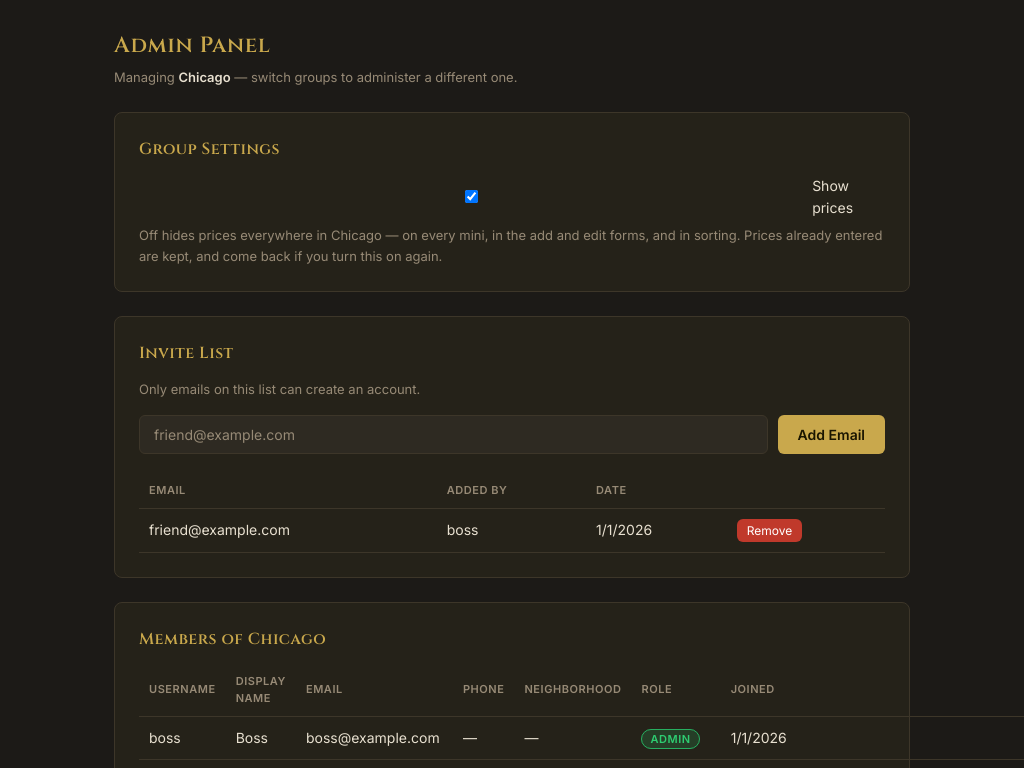
it: AdminPage — group settings › shows the server's error if the change didn't take
Click the checkbox labelled "Show prices".
click(472, 197)  # box [139, 190, 804, 204]
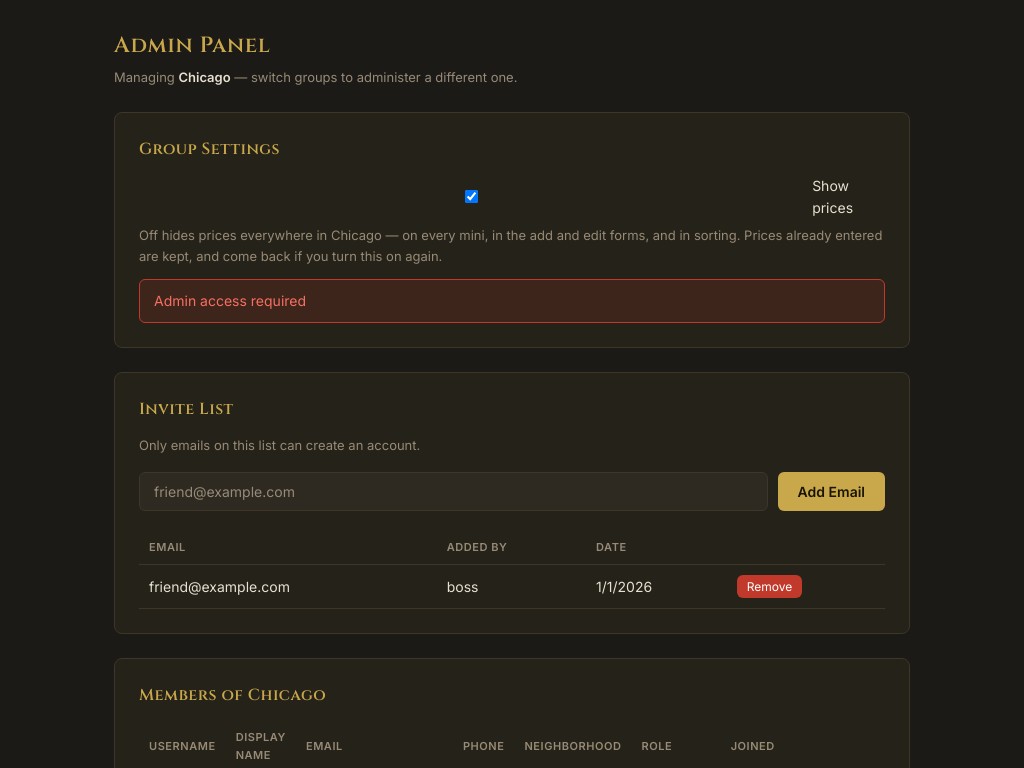
Expected: the text "Admin access required" is shown, [139, 279, 885, 323]
